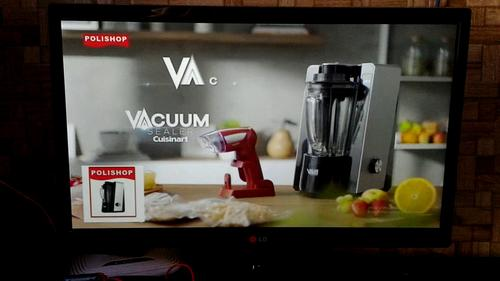Polishop #1: (82, 164, 145, 222)
